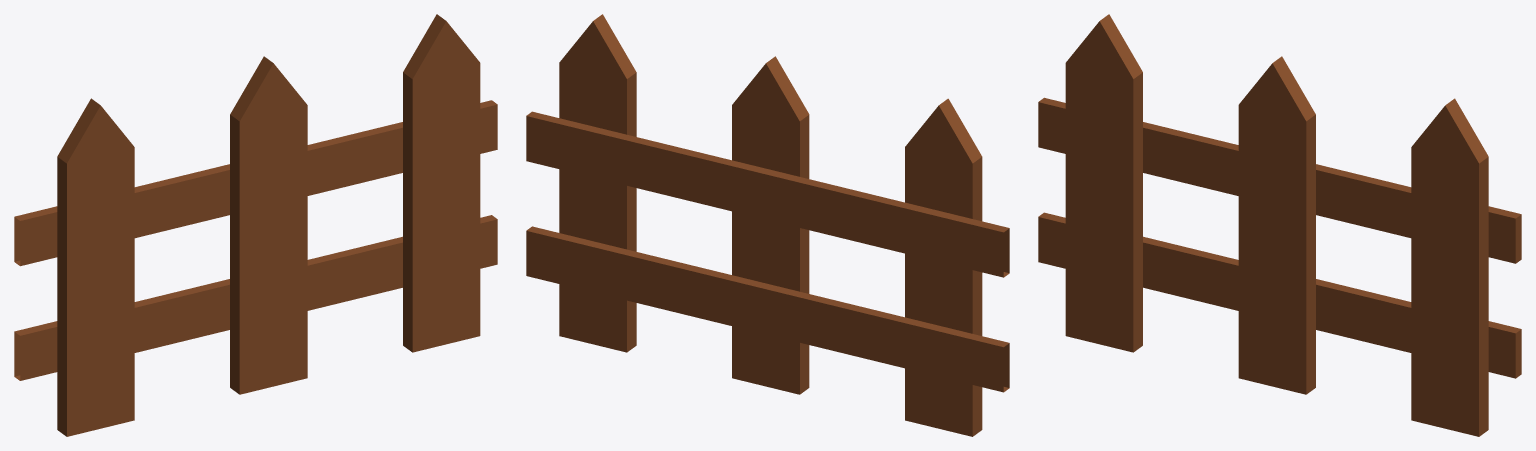
The model's file is Fence Tile_2.fbx.
3 views of the same model, side by side, from view 1: azimuth 30°, elevation 25°; view 2: azimuth 150°, elevation 25°; view 3: azimuth 330°, elevation 25° (orthographic).
Parts seen in each view (by area): view 1: Fence Tile_2; view 2: Fence Tile_2; view 3: Fence Tile_2.
Boxes of the visible parts, x1=… form: Fence Tile_2: x1=14, y1=14, x2=497, y2=436; Fence Tile_2: x1=526, y1=14, x2=1009, y2=436; Fence Tile_2: x1=1038, y1=14, x2=1521, y2=436.
Bounding box in the file's own units: 159 × 103 × 8.98.
